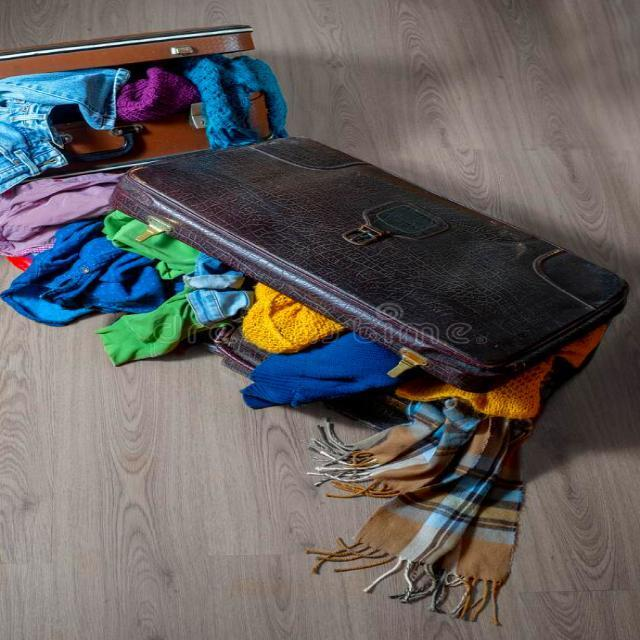clothes: (15, 71, 578, 604)
